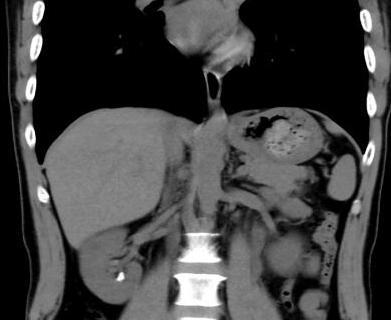Tas_Var: (117, 276, 125, 282), (119, 270, 124, 276)
